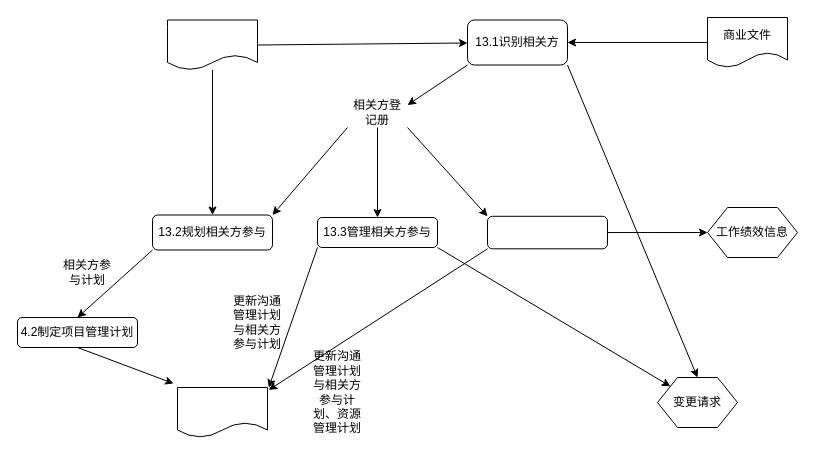
Some shapes in this 815 by 455 pixel diagram are drawn without their labels. The shapes that lost their labels are listed below. From the top down, each one's centre as x and y in pixels, then its label:
the point at 212,44: 项目章程 协议
the point at 547,232: 13.4监督相关方参与
the point at 222,412: 项目管理计划 到个过程
